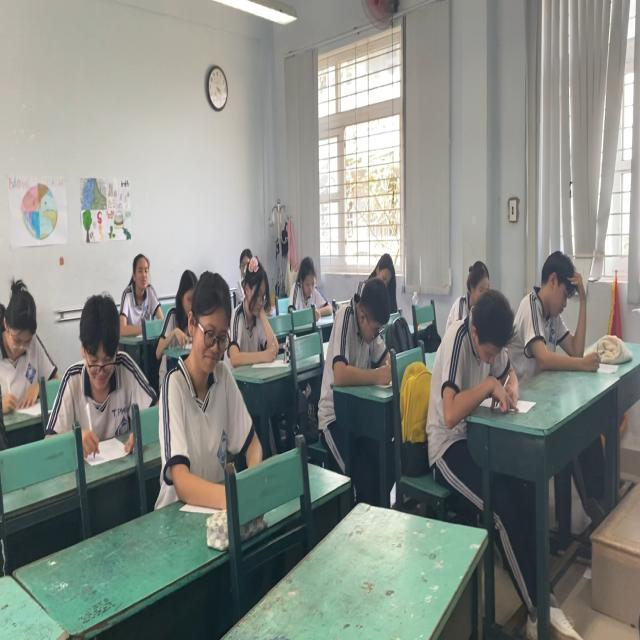not_cheating: (170, 271, 251, 485), (439, 267, 524, 418), (60, 291, 152, 423), (517, 250, 597, 374), (323, 282, 393, 384), (0, 274, 51, 409), (222, 239, 280, 354), (118, 250, 164, 326), (288, 250, 336, 319)
